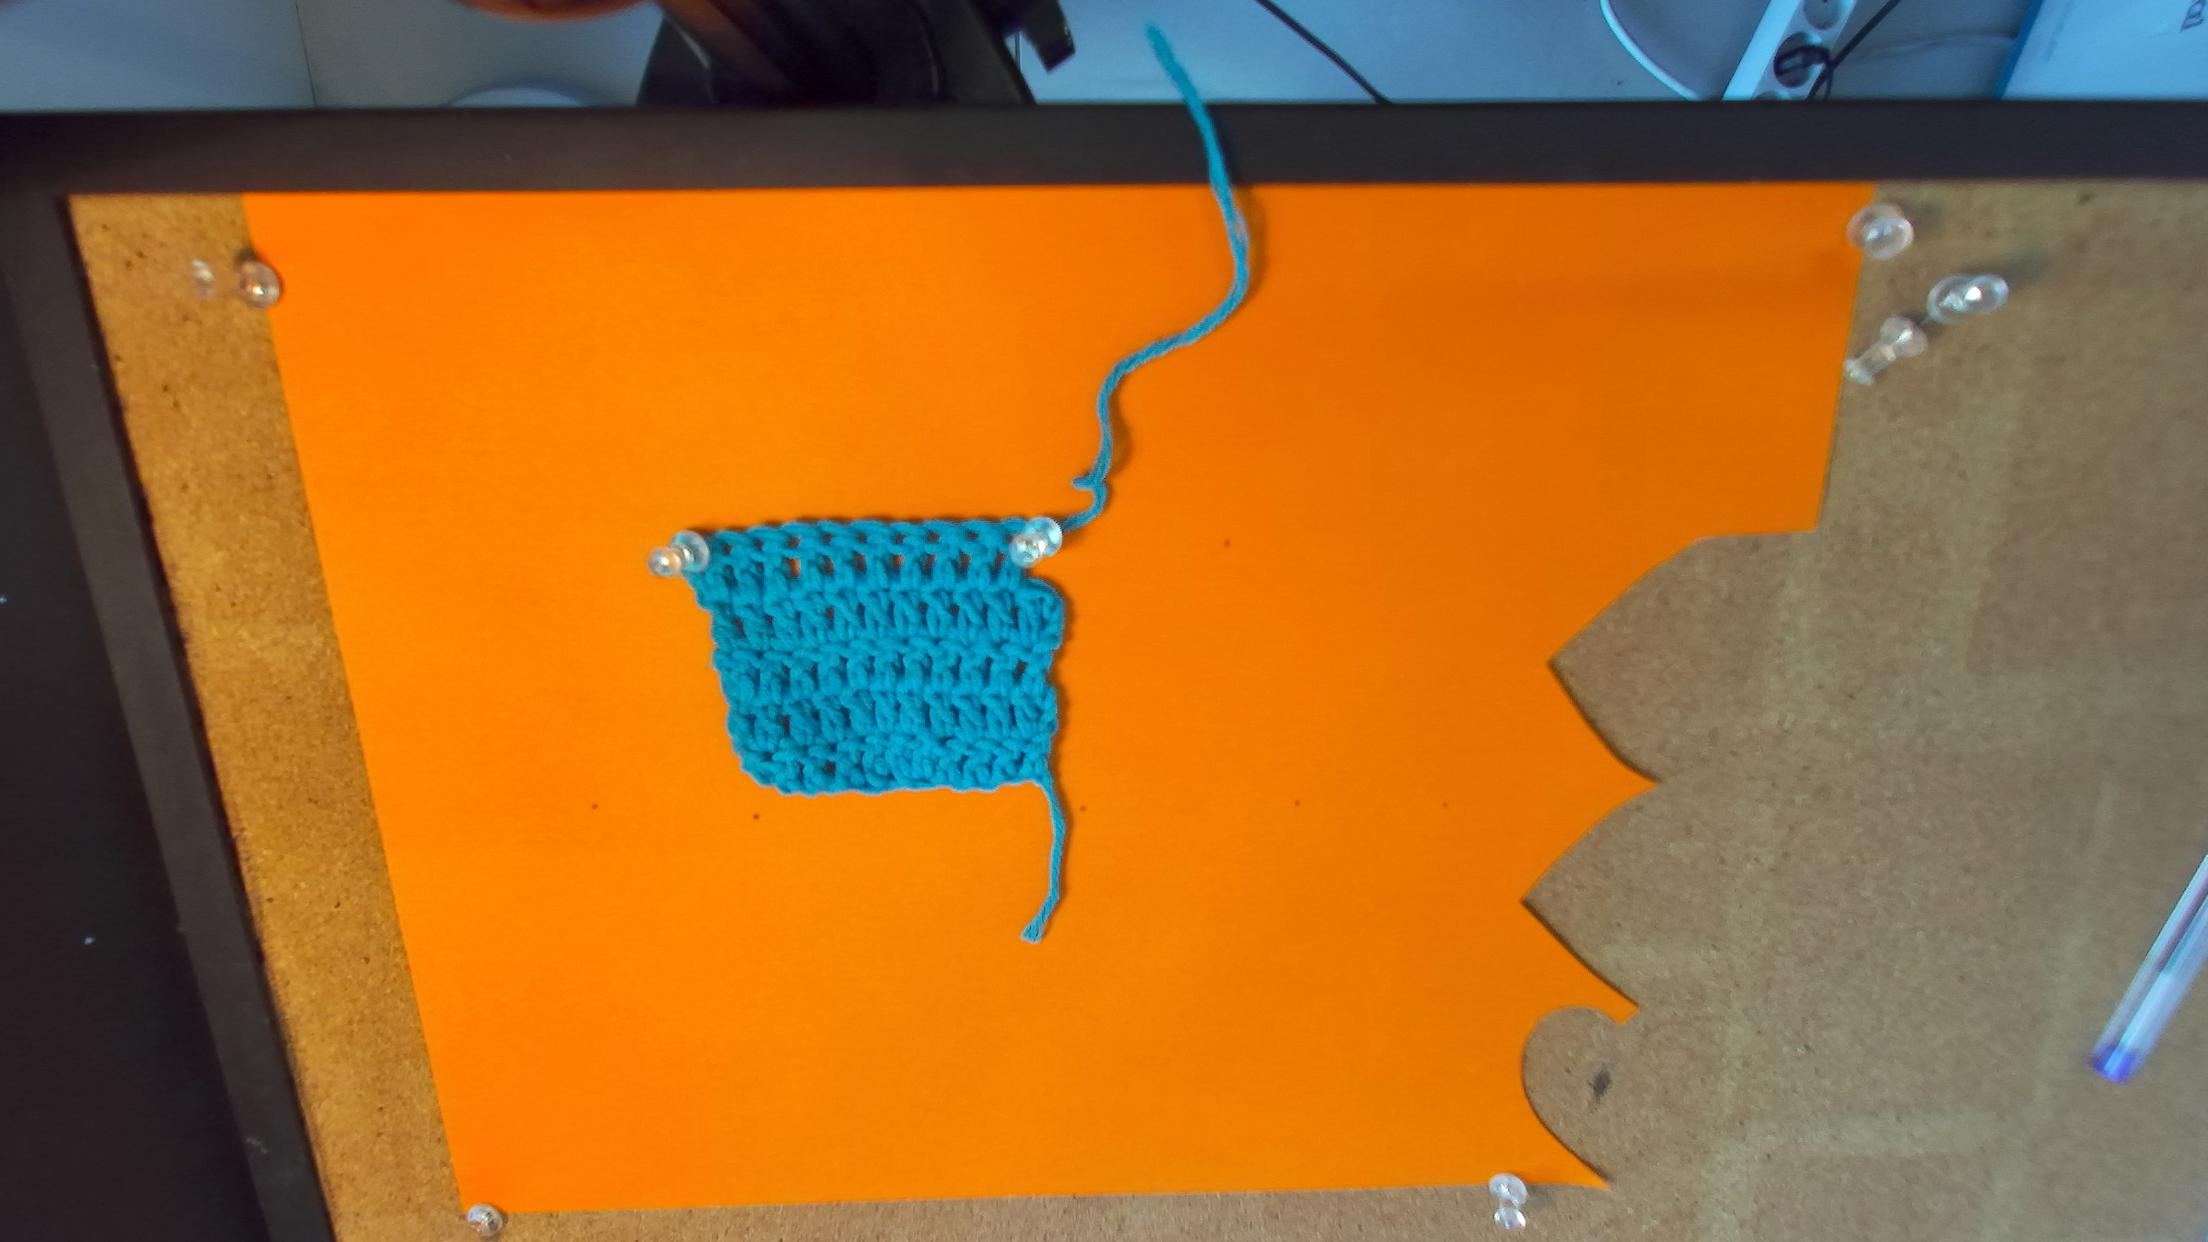hole: (786, 535, 801, 549), (893, 531, 908, 544), (722, 543, 735, 557), (925, 531, 940, 543), (822, 532, 834, 546), (964, 531, 980, 541), (755, 540, 764, 552), (857, 532, 866, 544), (1004, 534, 1016, 543)
swatch: (648, 519, 1071, 802)
